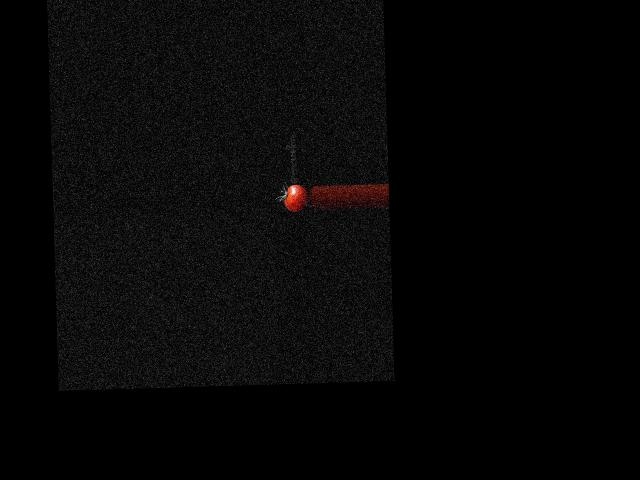tomato: (284, 184, 308, 211)
